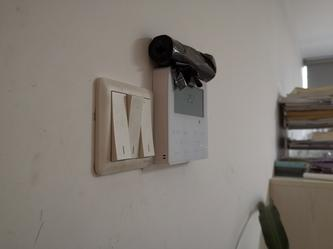switch: (106, 86, 132, 164), (126, 91, 144, 163), (139, 94, 157, 162)
